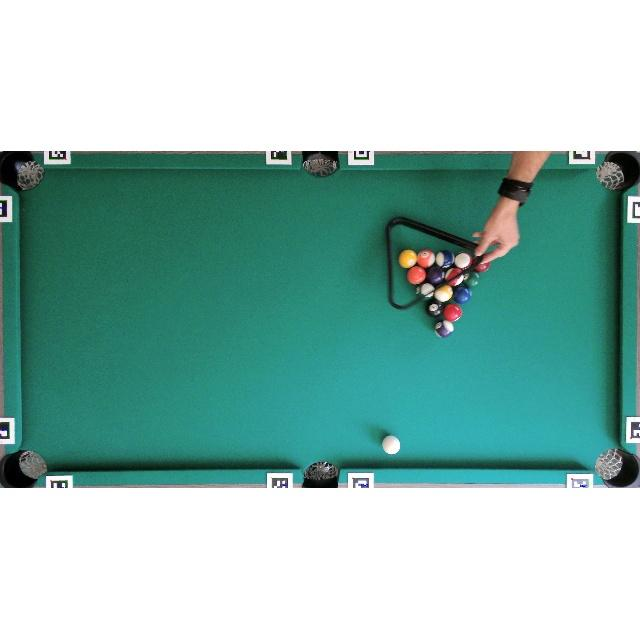cue ball: (381, 435, 400, 455)
other: (398, 249, 418, 269), (443, 303, 463, 322), (407, 266, 427, 285), (434, 284, 454, 302), (416, 282, 436, 300), (426, 266, 445, 284), (435, 320, 454, 338), (416, 249, 434, 268), (435, 250, 454, 268), (453, 286, 471, 304), (445, 268, 463, 285), (454, 252, 472, 269), (426, 301, 444, 317), (464, 272, 480, 288), (474, 260, 490, 272)
